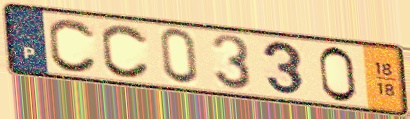0: (157, 26, 202, 87), (316, 45, 359, 104)
3: (258, 39, 309, 99), (209, 33, 254, 92)
C: (99, 22, 153, 81), (46, 16, 100, 75)
